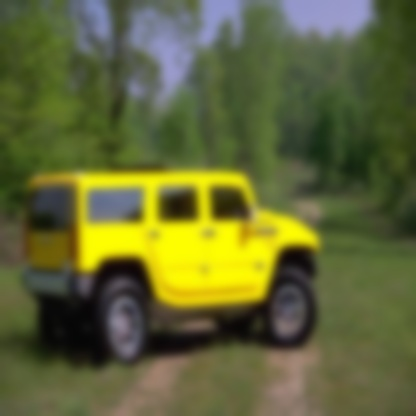Vehicle: (22, 167, 319, 370)
